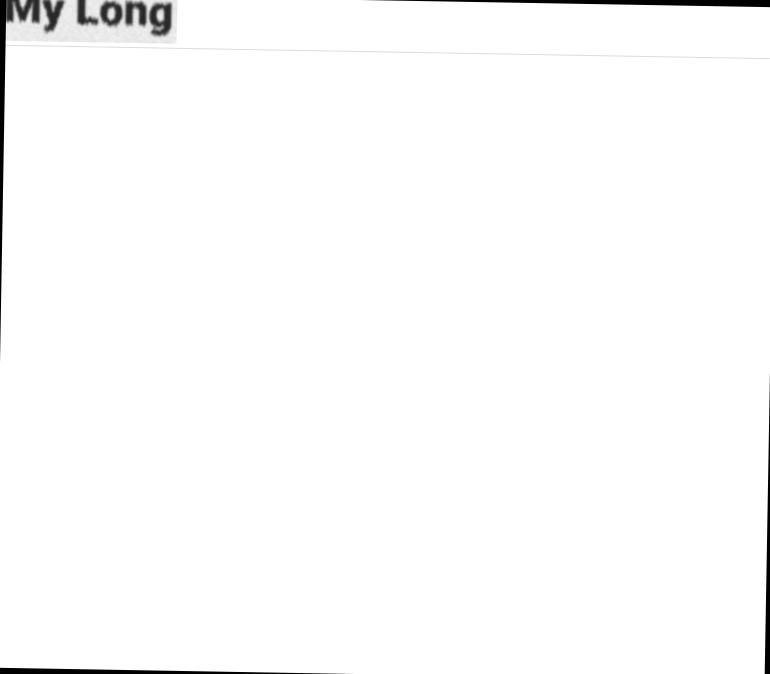text: (5, 0, 173, 39)
